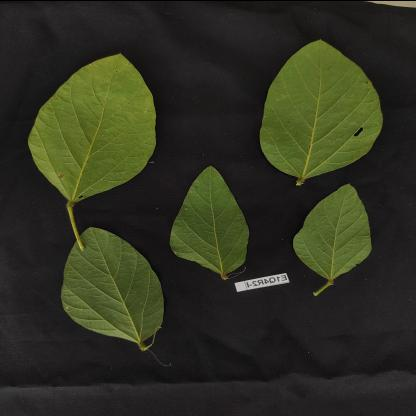label: (224, 271, 290, 297)
leaflets: (16, 45, 161, 203), (254, 30, 388, 178), (54, 222, 168, 378), (280, 186, 382, 296), (168, 166, 250, 274)
